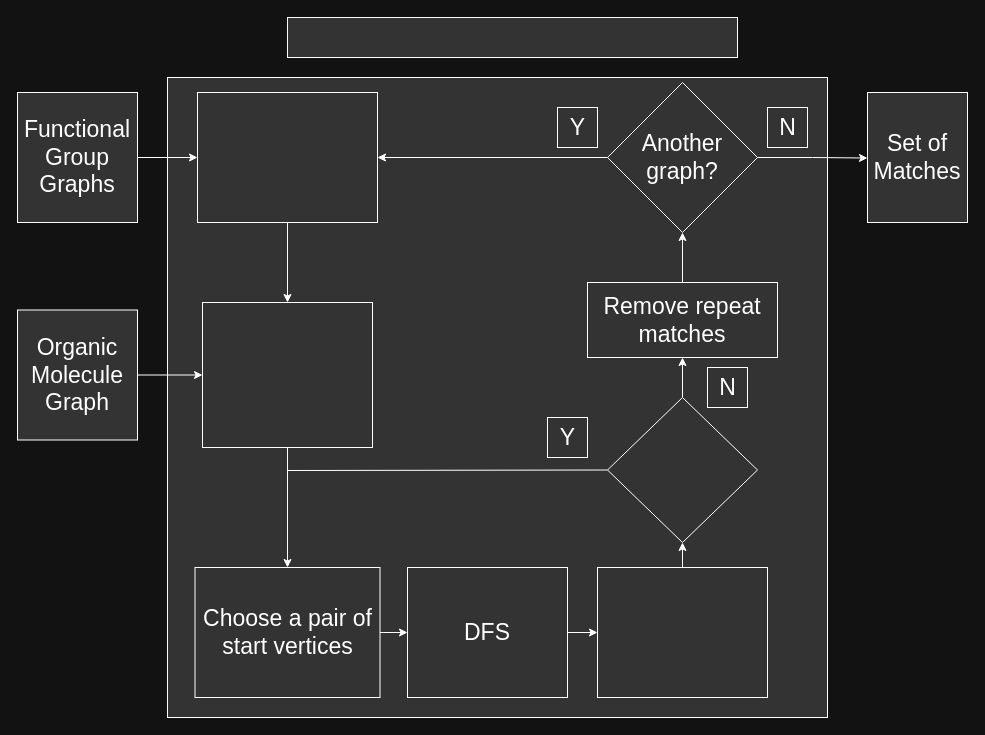
The diagram is 985 pixels wide and 735 high, and some of its shapes have lost their labels. The shapes that lost their labels are listed below. From the top down, each one's centre as x and y in pixels, then its label:
point 512,37: General Functional Group Graph Identifier
point 287,157: Select Graph
point 287,375: Determine all possible start vertices
point 682,469: Another pair?
point 682,632: Add matched Functional Group & Ring Classify
